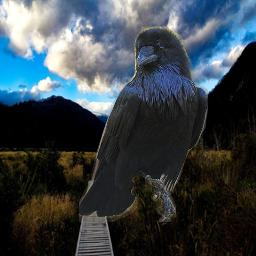Crow: (79, 26, 208, 222)
